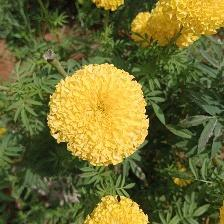marigold: (45, 64, 152, 168)
